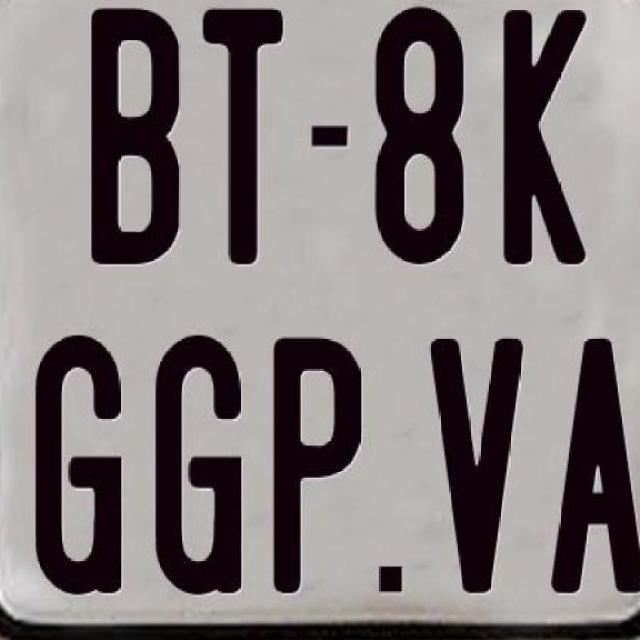license-plate: (6, 0, 639, 605)
